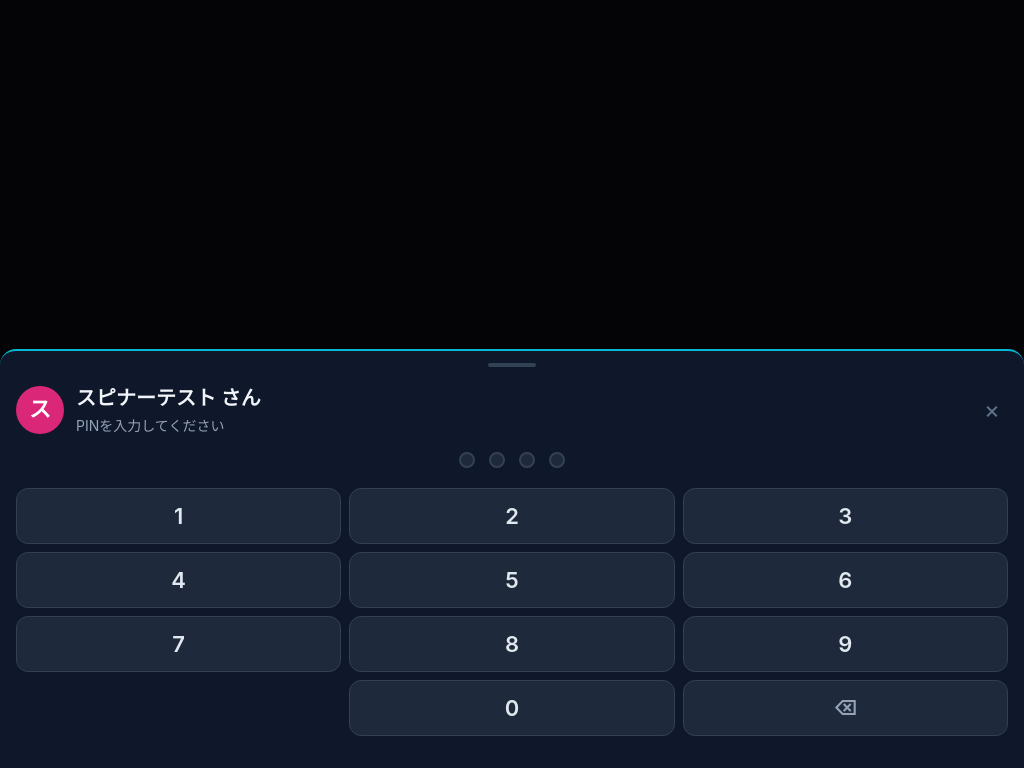
it: SPEC-LOGIN-PIN-VERIFY-SPINNER-01 PIN照合オーバーレイ › when_verify_throws_should_hide_overlay_and_show_system_error
This screenshot has width=1024, height=768.
Step 1. Press the mouse on the button with test id "pin-key-1" → (179, 516), box [16,488,341,544]
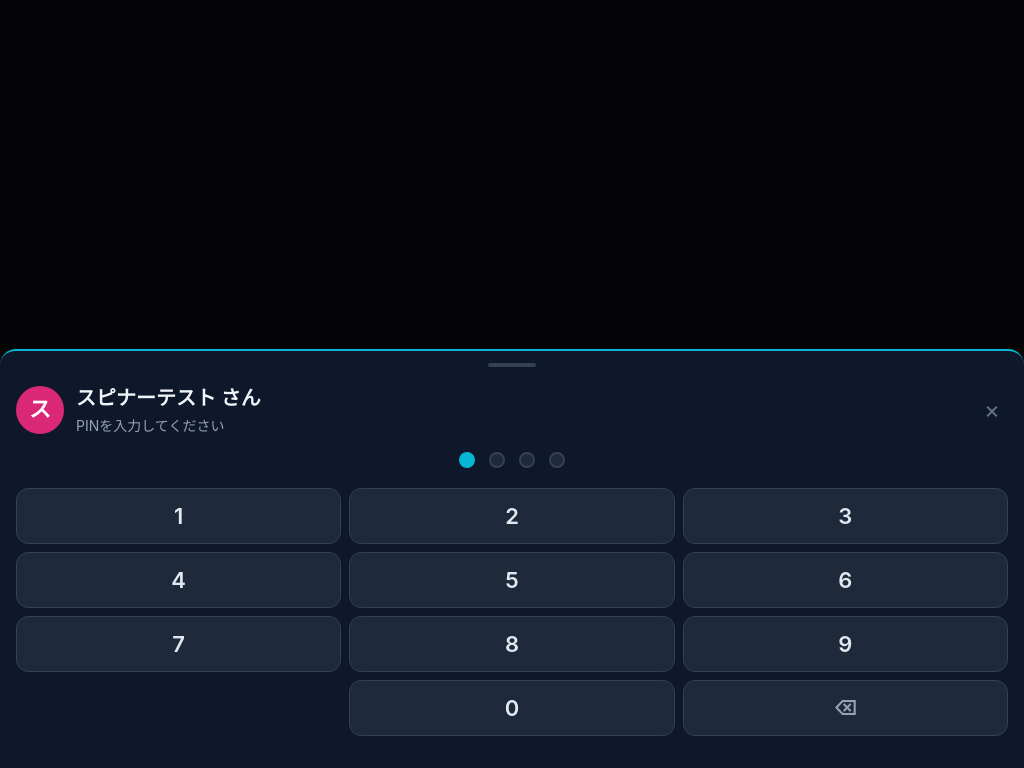
Step 2. Press the mouse on the button "2" → (512, 516), box [349,488,675,544]
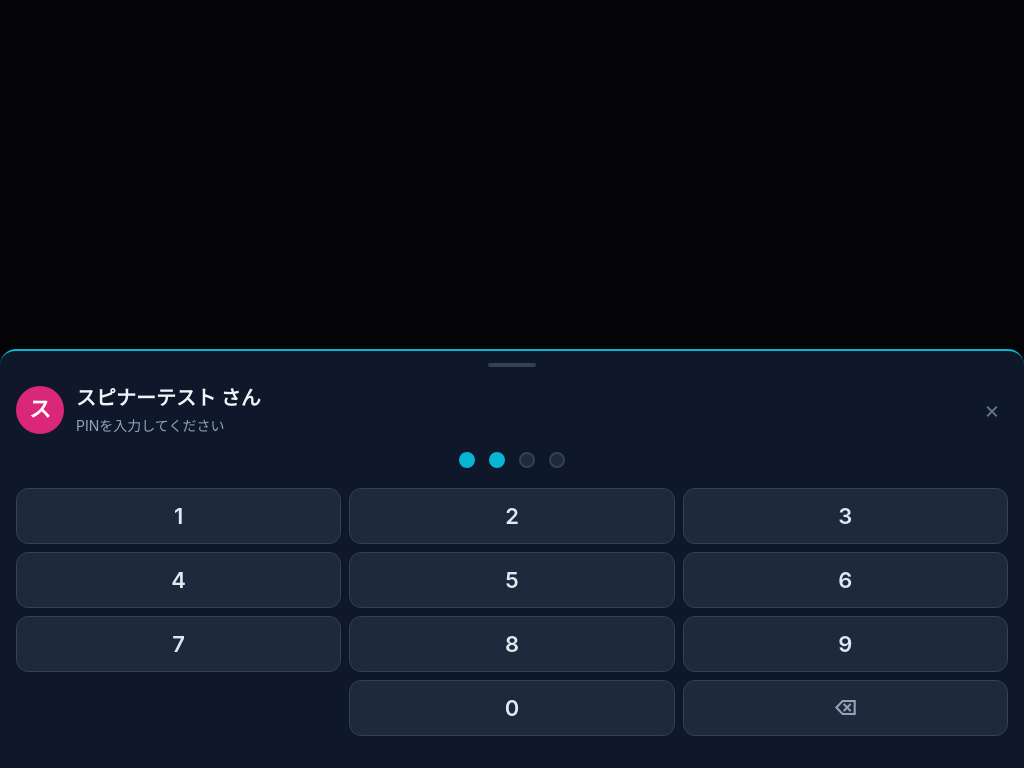
Step 3. Press the mouse on the button "3" → (845, 516), box [683,488,1008,544]
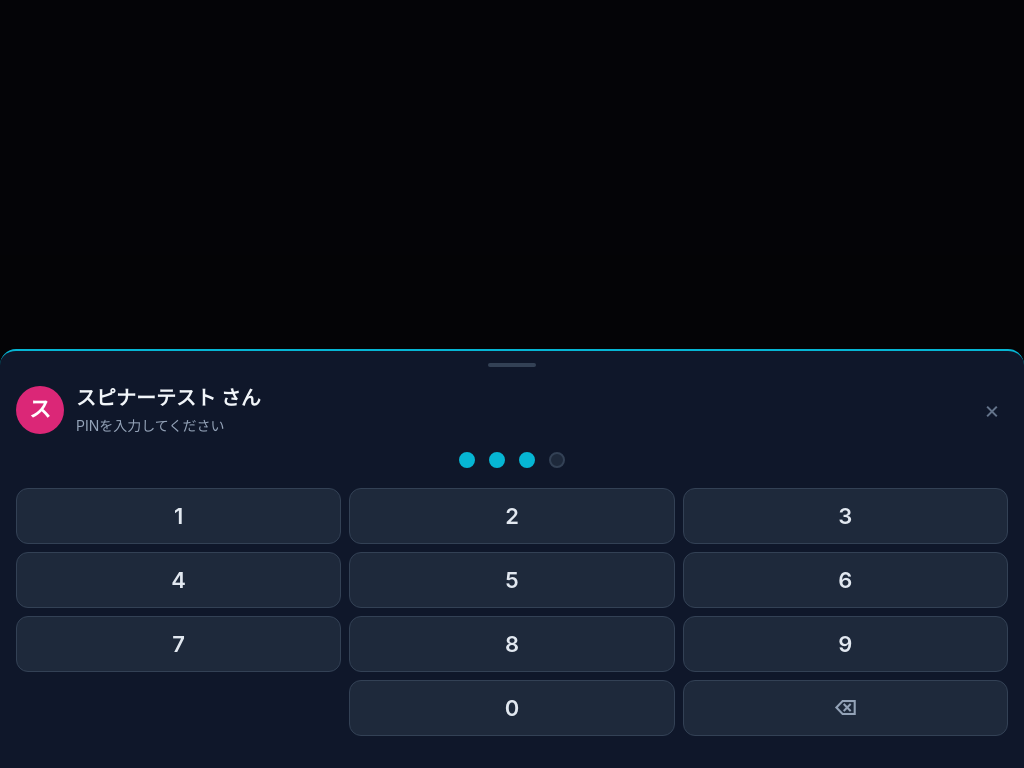
Step 4. Press the mouse on the button "4" → (179, 580), box [16,552,341,608]
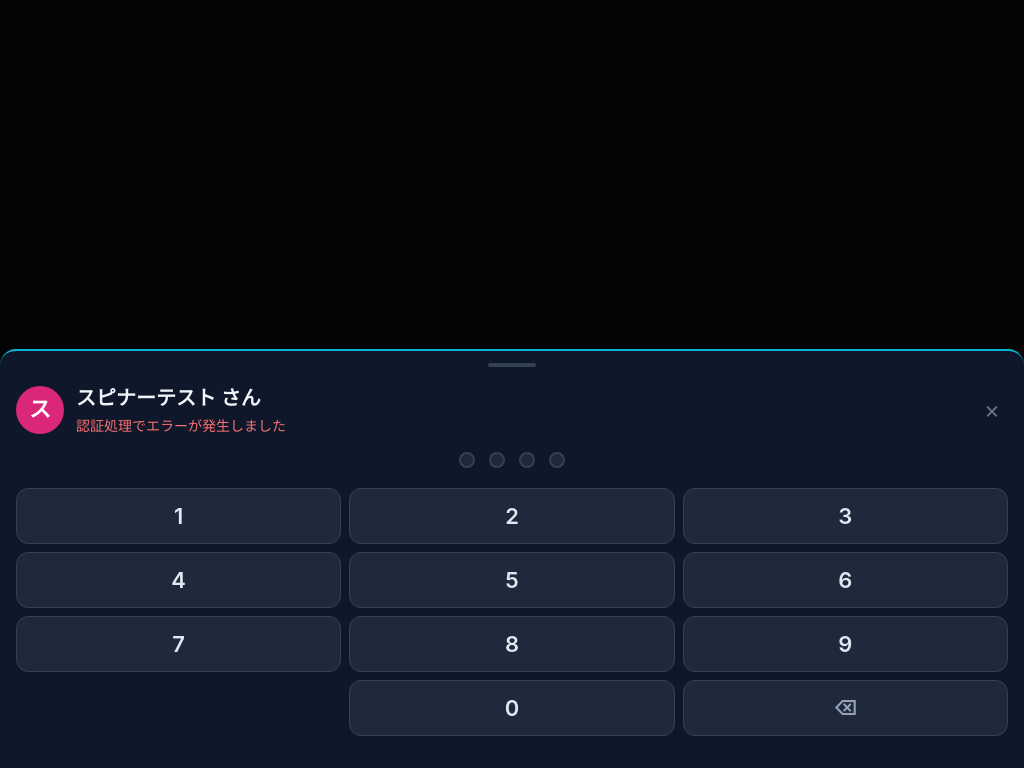
Check: the text "認証処理でエラーが発生しました" is shown, box [76,417,286,434]
